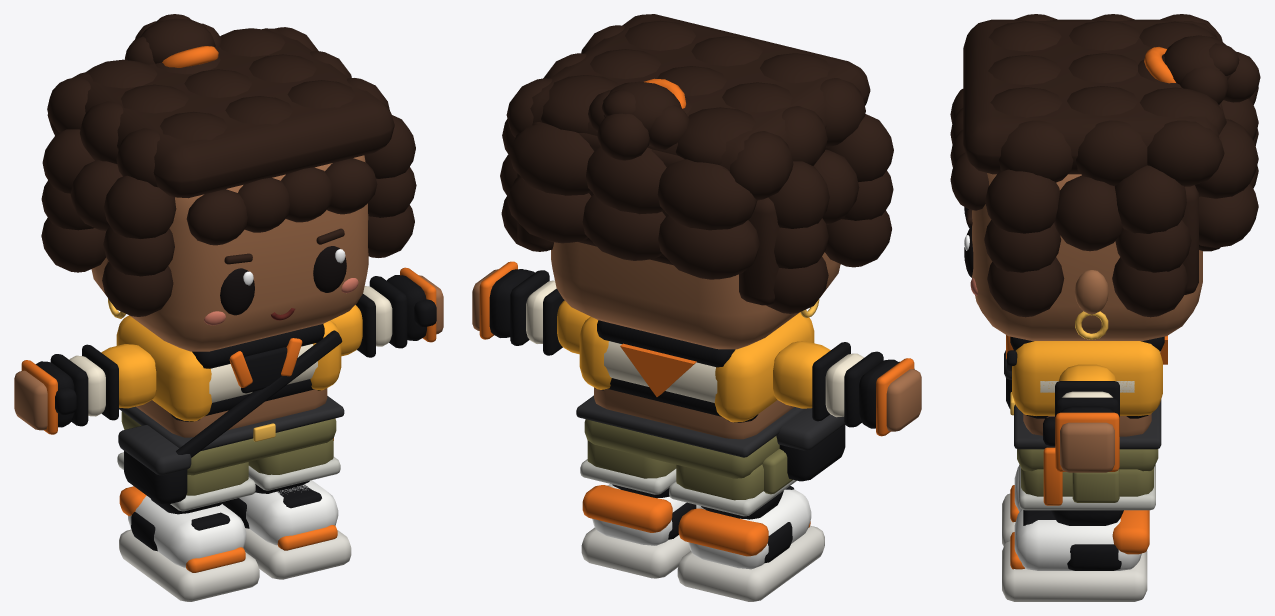
Rendered from yun_urban_chibi_v05.glb.
3 views of the same model, side by side, from view 1: azimuth 30°, elevation 25°; view 2: azimuth 150°, elevation 25°; view 3: azimuth 270°, elevation 25° (orthographic). The views are drawn at different scales.
Visible parts, largest first — view 1: Hair_Curls, Head, Shoe_R, Shorts, Shoe_L, Jacket, Arm_R, Arm_L, Bag, Hand_R, Hair_Ponytail, Collar (+7 smaller); view 2: Hair_Curls, Head, Shorts, Shoe_R, Jacket, Shoe_L, Arm_R, Hair_Ponytail, Arm_L, Hand_R, Torso, Belt (+4 smaller); view 3: Hair_Curls, Shoe_L, Head, Jacket, Shorts, Hair_Ponytail, Hand_L, Arm_L, Belt, Leg_L, Hip_Strap, Torso (+5 smaller).
Part boxes in pixels (x1,y1,x2,y2): Hair_Curls: (41,27,416,316); Head: (91,155,368,351); Shoe_R: (119,486,259,601); Shorts: (117,411,340,511); Shoe_L: (222,480,351,579); Jacket: (116,315,341,421); Arm_R: (50,344,156,426); Arm_L: (331,276,407,357); Bag: (118,425,191,504); Hand_R: (14,360,76,434); Hair_Ponytail: (125,14,221,64); Collar: (192,324,324,387); Hair_Curls: (500,14,893,313); Head: (551,242,840,349); Shorts: (580,419,796,516); Shoe_R: (677,486,824,601); Jacket: (579,312,814,422); Shoe_L: (581,484,703,578); Arm_R: (773,341,883,427); Hair_Ponytail: (588,81,689,160); Arm_L: (510,270,590,355); Hand_R: (859,358,921,436); Torso: (594,387,794,439); Belt: (576,395,805,457); Hair_Curls: (950,14,1258,317); Shoe_L: (1002,509,1149,601); Head: (972,173,1202,340); Jacket: (1012,335,1167,415); Shorts: (1017,449,1158,510); Hair_Ponytail: (1162,35,1260,104); Hand_L: (1043,406,1119,472); Arm_L: (1055,364,1119,436); Belt: (1010,392,1161,449); Leg_L: (1051,510,1123,525); Hip_Strap: (1043,447,1062,505); Torso: (1023,414,1151,436).
Size of the model in its own units: 0.58 by 0.672 by 0.362.
